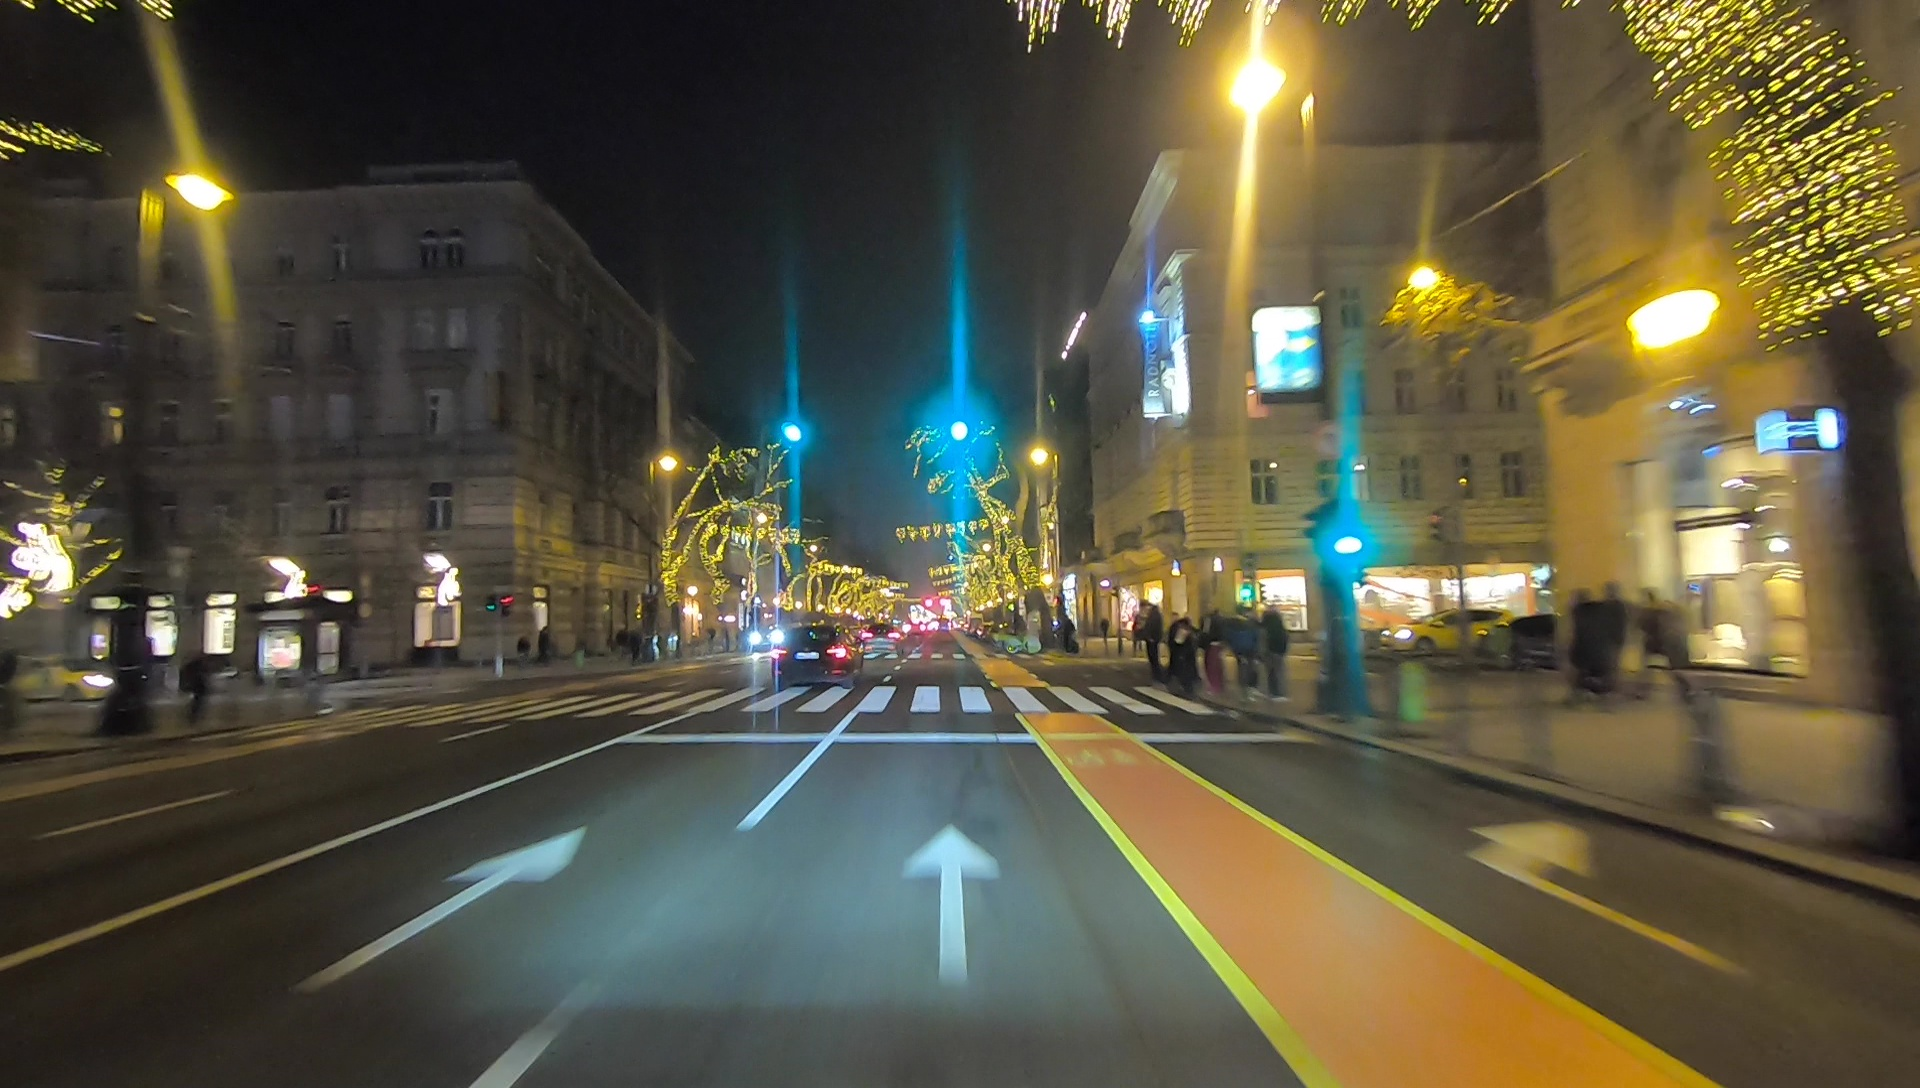person: (1638, 586, 1693, 706), (1571, 587, 1601, 699), (1601, 578, 1625, 708), (1195, 613, 1225, 702), (1265, 606, 1291, 702), (1138, 599, 1169, 678), (1230, 611, 1256, 697), (1167, 610, 1191, 680)
